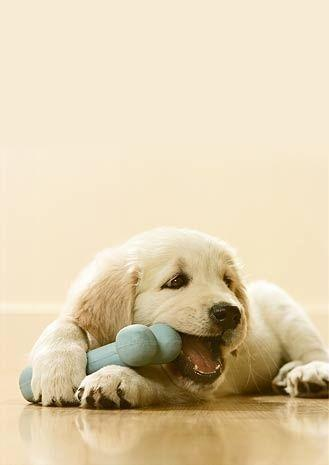puppy-dog: (27, 225, 329, 410)
